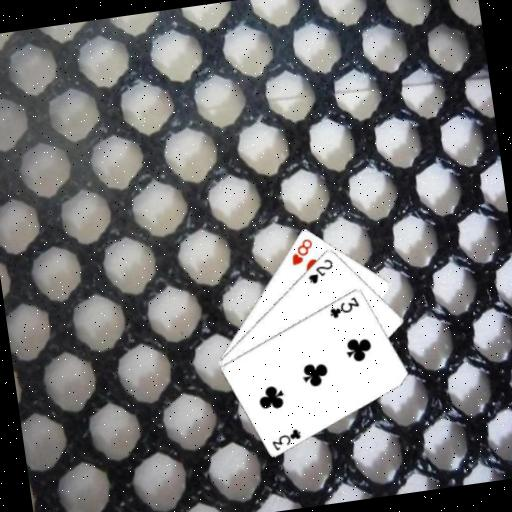2S: (303, 255, 337, 286)
3C: (325, 293, 362, 321), (268, 425, 305, 453)
8H: (286, 235, 317, 267)
